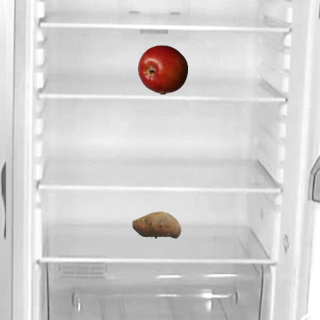Apple Braeburn: (137, 44, 187, 94)
Potato Sweet: (131, 199, 181, 249)
